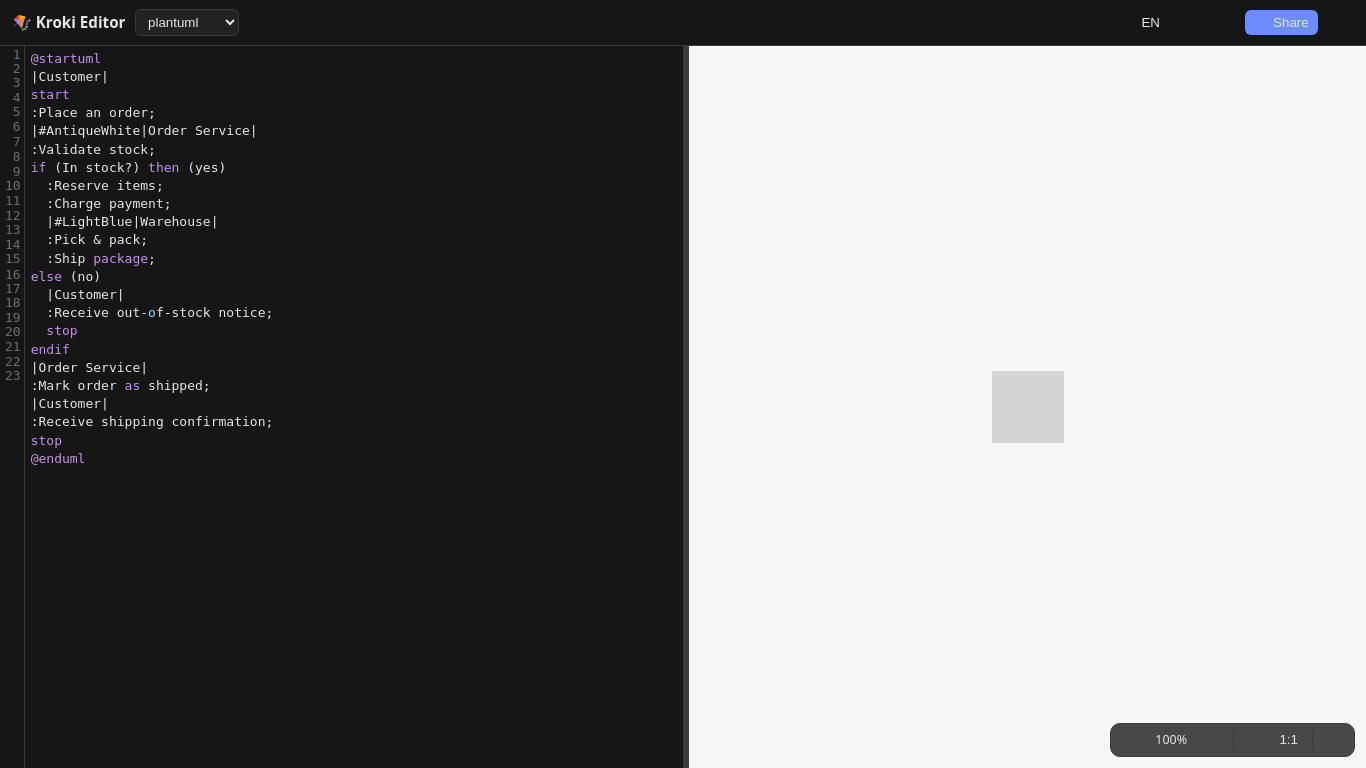
Test: app › opens the share dialog
Click the button "Share".
click(1282, 22)  # box [1245,10,1318,35]
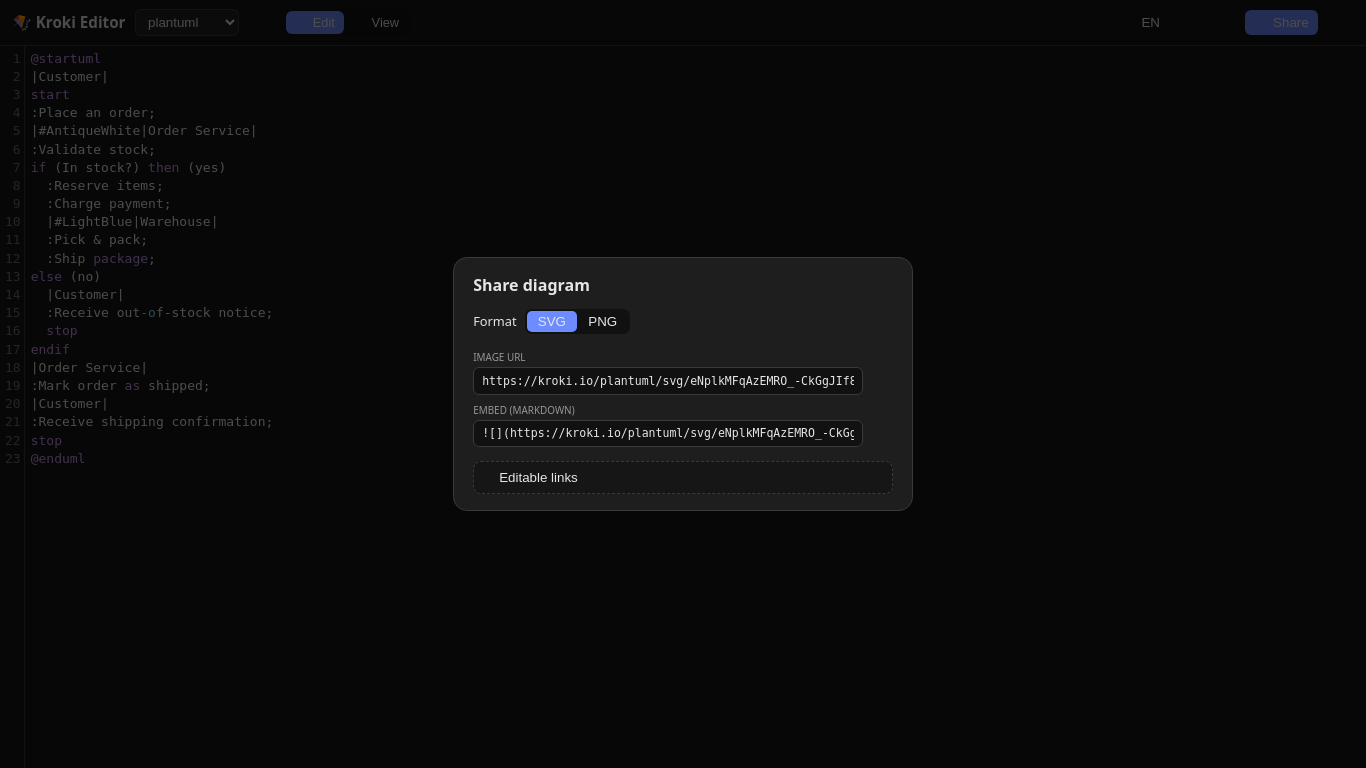
Expected: the element with class "dialog" is shown, [453,257,913,511]
